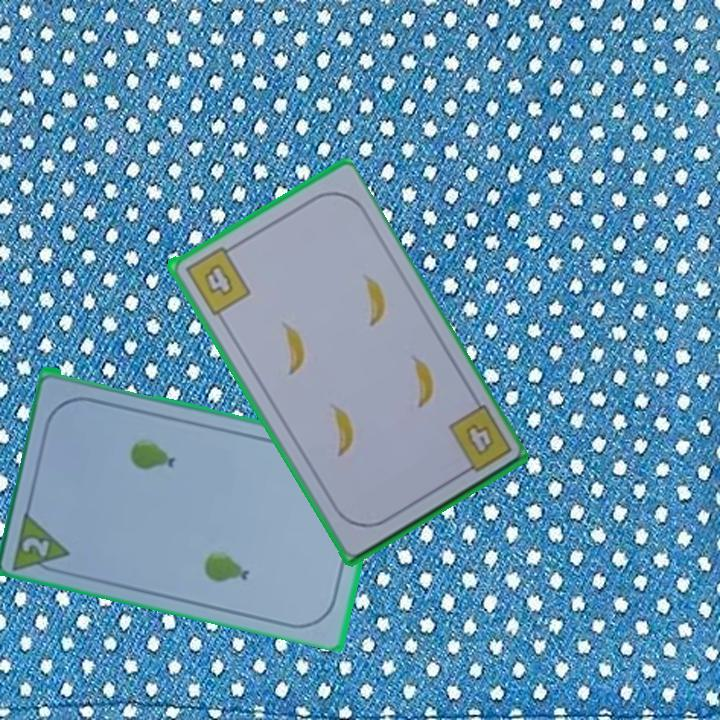2p: (9, 505, 74, 577)
4b: (181, 240, 253, 318), (461, 419, 497, 455)
